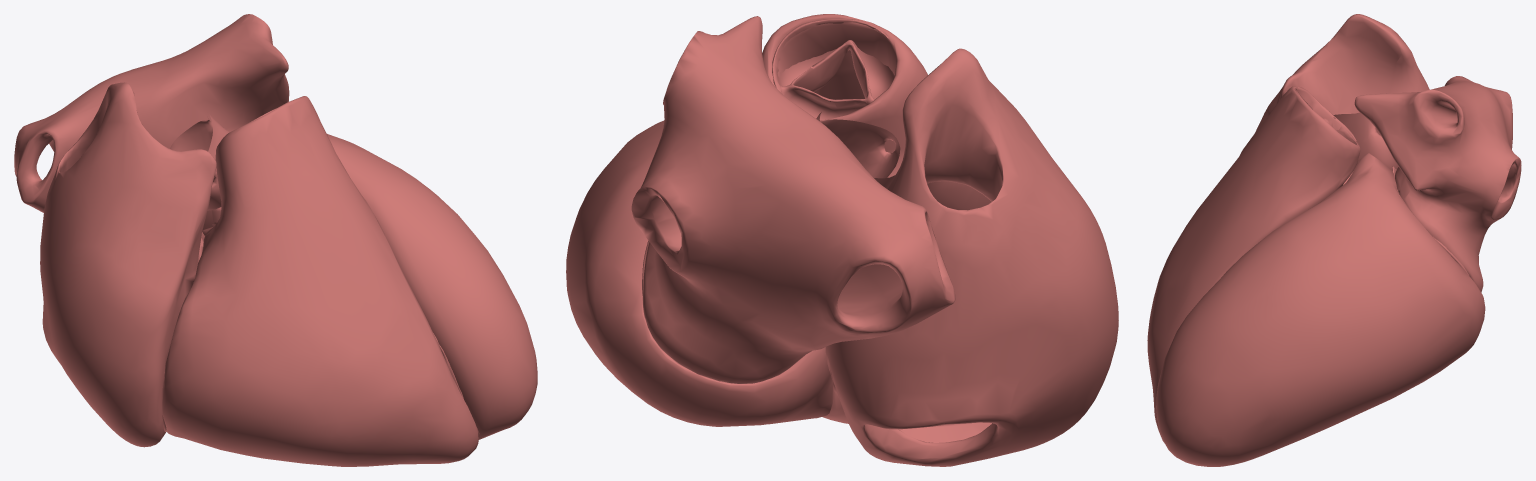
The model's file is heart.glb.
3 views of the same model, side by side, from view 1: azimuth 30°, elevation 25°; view 2: azimuth 150°, elevation 25°; view 3: azimuth 270°, elevation 25° (orthographic). The views are drawn at different scales.
Parts seen in each view (by area): view 1: VH_M_heart_right_ventricle, VH_M_right_cardiac_atrium, VH_M_heart_left_ventricle, VH_M_left_cardiac_atrium, VH_M_aortic_valve; view 2: VH_M_left_cardiac_atrium, VH_M_right_cardiac_atrium, VH_M_heart_left_ventricle, VH_M_heart_right_ventricle, VH_M_pulmonary_valve, VH_M_aortic_valve; view 3: VH_M_heart_left_ventricle, VH_M_heart_right_ventricle, VH_M_left_cardiac_atrium, VH_M_right_cardiac_atrium, VH_M_aortic_valve.
Part boxes in pixels (bbox=[...]): VH_M_heart_right_ventricle: bbox=[162, 96, 478, 466]; VH_M_right_cardiac_atrium: bbox=[40, 82, 216, 447]; VH_M_heart_left_ventricle: bbox=[202, 134, 537, 439]; VH_M_left_cardiac_atrium: bbox=[14, 14, 289, 212]; VH_M_aortic_valve: bbox=[170, 114, 229, 210]; VH_M_left_cardiac_atrium: bbox=[631, 16, 955, 383]; VH_M_right_cardiac_atrium: bbox=[825, 48, 1118, 466]; VH_M_heart_left_ventricle: bbox=[566, 120, 832, 426]; VH_M_heart_right_ventricle: bbox=[762, 14, 927, 423]; VH_M_pulmonary_valve: bbox=[772, 19, 894, 119]; VH_M_aortic_valve: bbox=[816, 112, 900, 188]; VH_M_heart_left_ventricle: bbox=[1156, 153, 1485, 466]; VH_M_heart_right_ventricle: bbox=[1147, 86, 1360, 441]; VH_M_left_cardiac_atrium: bbox=[1354, 76, 1521, 292]; VH_M_right_cardiac_atrium: bbox=[1239, 14, 1429, 155]; VH_M_aortic_valve: bbox=[1333, 112, 1398, 169].
Size of the model in its own units: 0.1244 by 0.1054 by 0.1052.
